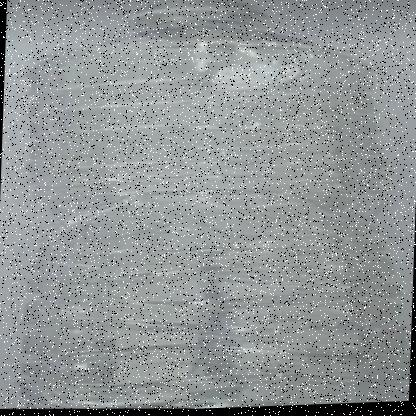open bottle: (7, 1, 416, 99)
